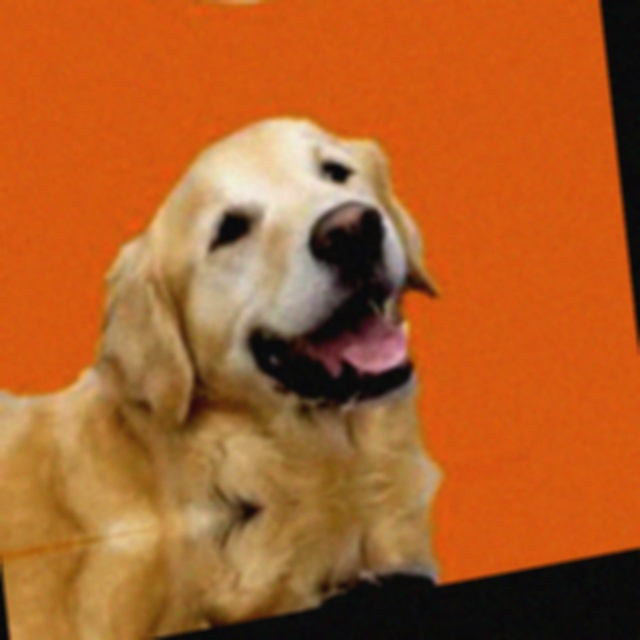dog: (85, 77, 461, 498), (133, 506, 478, 640), (68, 0, 411, 47)
